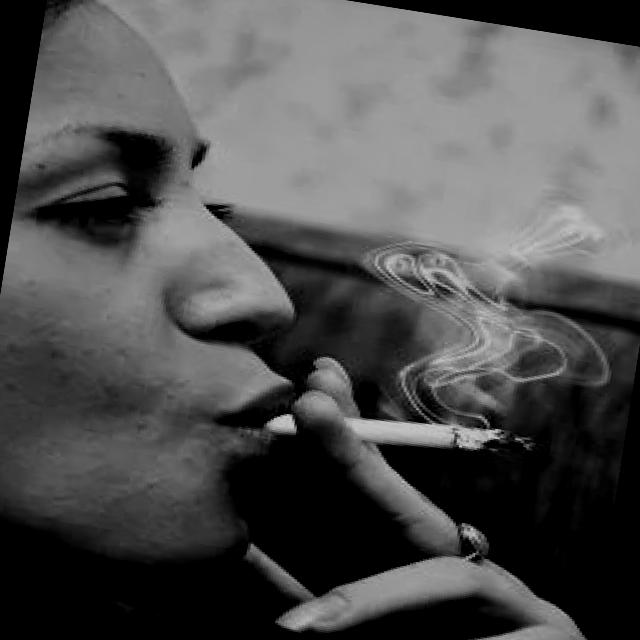cigarette: (252, 388, 550, 490)
